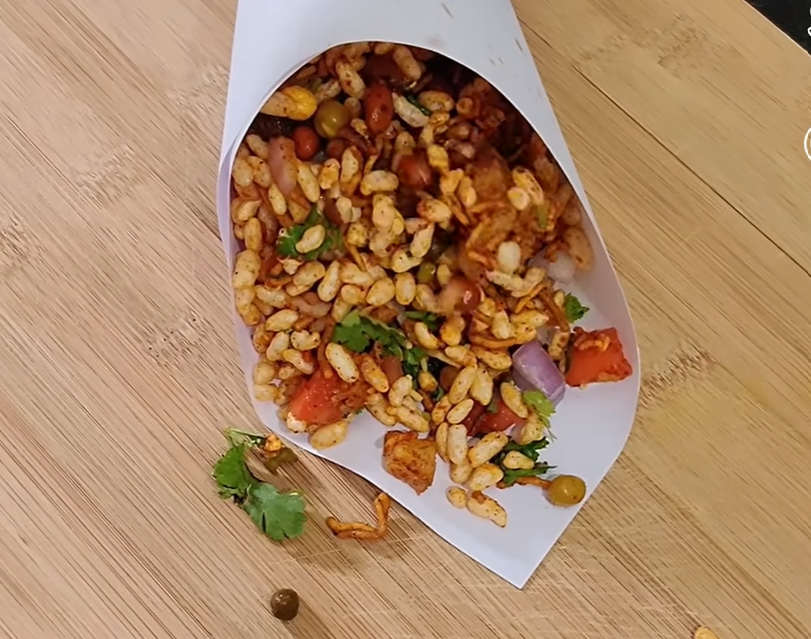chatpate: (247, 116, 600, 436)
